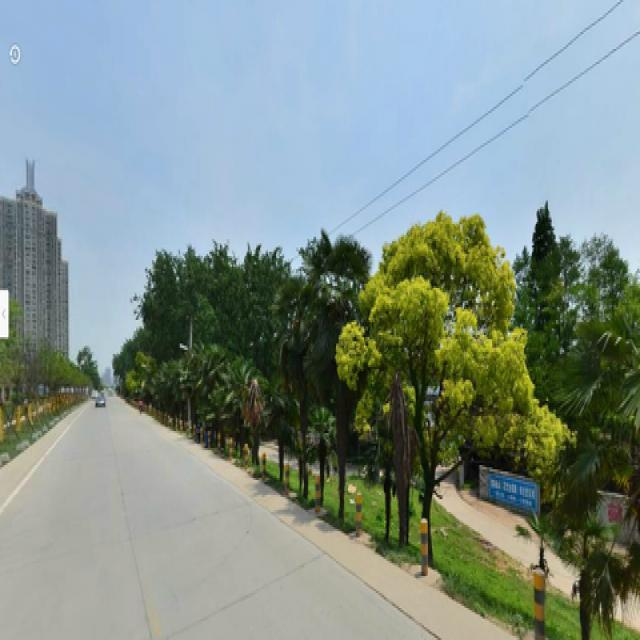cinn: (342, 203, 534, 542)
